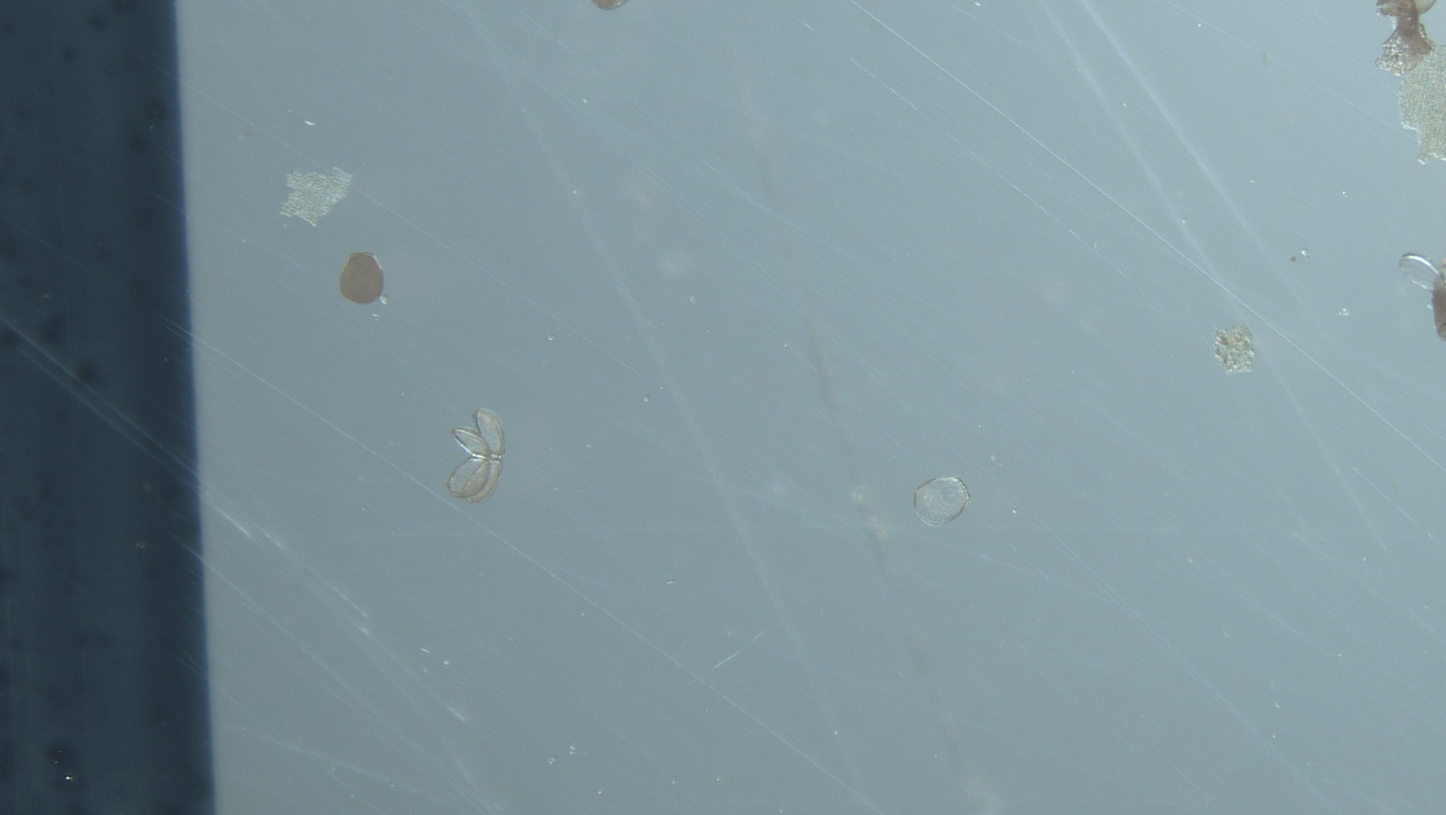dead: (914, 477, 971, 527), (451, 410, 505, 458), (447, 457, 501, 502)
live: (914, 477, 971, 527), (339, 252, 382, 304)
